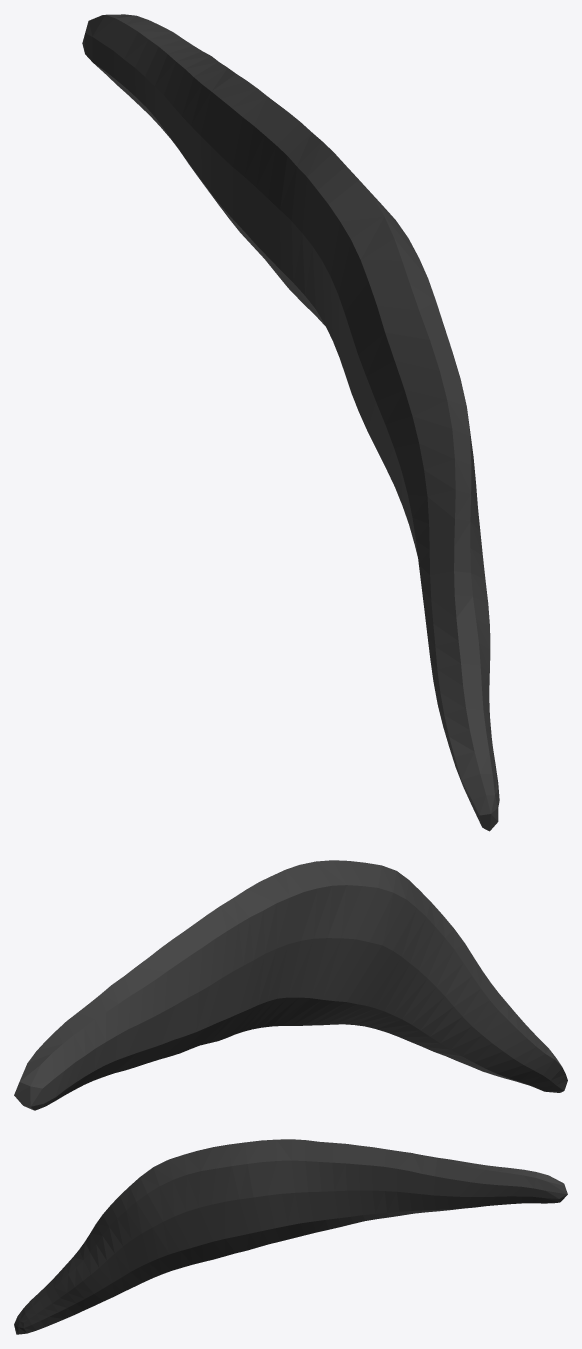
The model's file is caninus.glb.
3 views of the same model, one above another, from view 1: azimuth 30°, elevation 25°; view 2: azimuth 150°, elevation 25°; view 3: azimuth 270°, elevation 25° (orthographic). The views are drawn at different scales.
Visible parts, largest first — view 1: caninus; view 2: caninus; view 3: caninus.
Part boxes in pixels (x1=…): caninus: x1=82, y1=14, x2=499, y2=831; caninus: x1=14, y1=860, x2=567, y2=1110; caninus: x1=14, y1=1139, x2=567, y2=1334.
Size of the model in its own units: 0.1138 by 0.2574 by 0.5754.
1 material, 1 textured.
